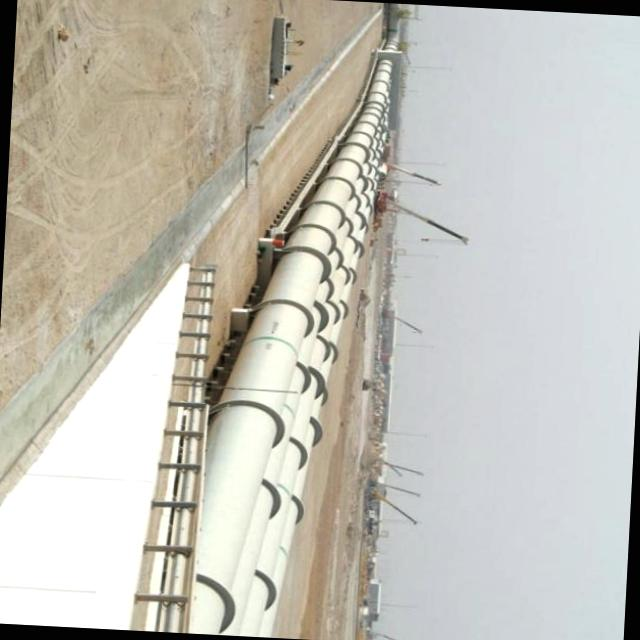gas: (190, 61, 389, 638), (191, 60, 384, 635)
